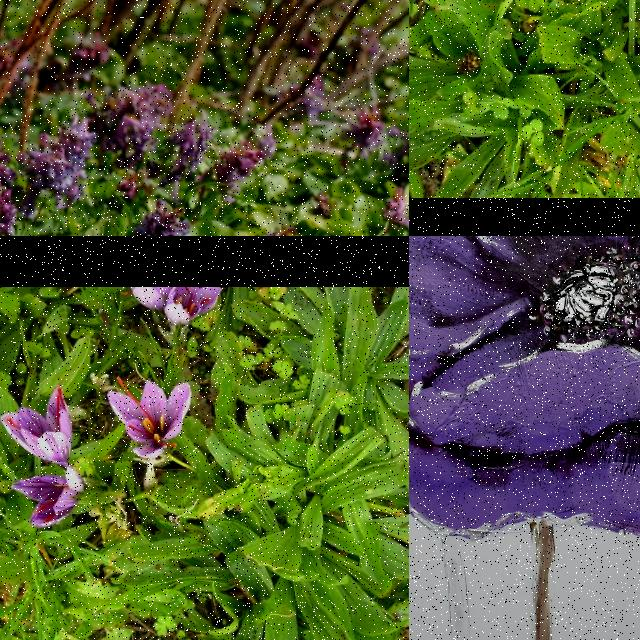flower: (108, 376, 192, 459), (0, 386, 74, 466), (11, 467, 89, 529)
overlap: (131, 288, 223, 326)
